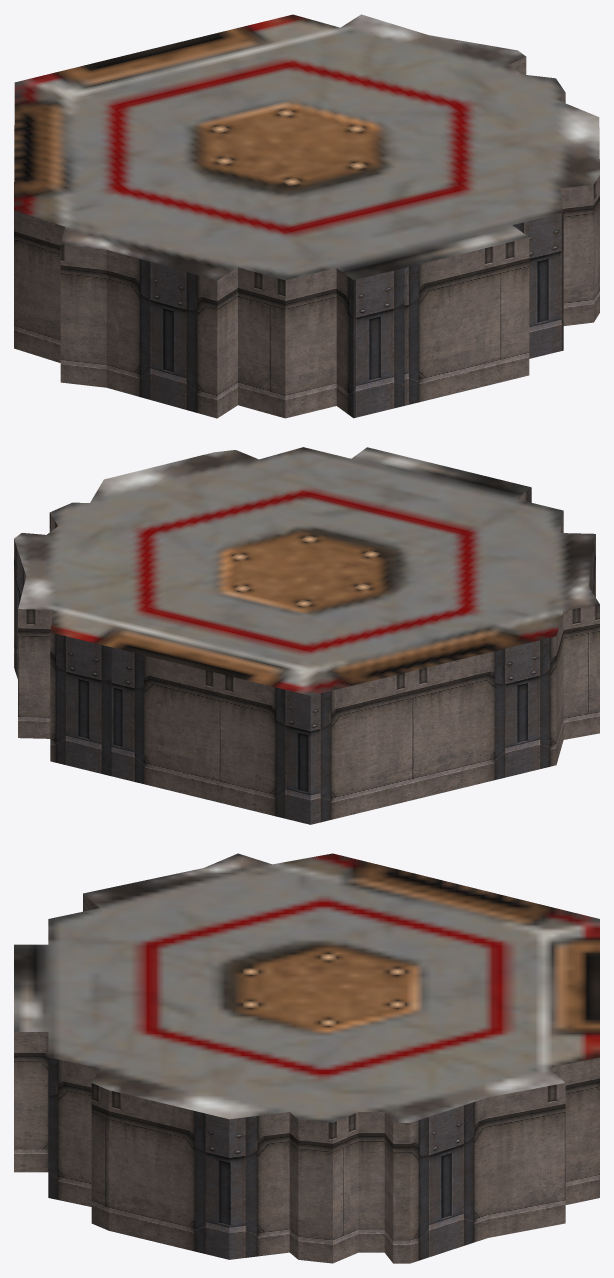
Rendered from bsealed_light_a_30.glb.
3 views of the same model, one above another, from view 1: azimuth 30°, elevation 25°; view 2: azimuth 150°, elevation 25°; view 3: azimuth 270°, elevation 25° (orthographic). The views are drawn at different scales.
Parts seen in each view (by area): view 1: buildings/saxarba/bsealed_light/bsealed_light_a_30; view 2: buildings/saxarba/bsealed_light/bsealed_light_a_30; view 3: buildings/saxarba/bsealed_light/bsealed_light_a_30.
Part boxes in pixels (x1,y1,x2,y2): buildings/saxarba/bsealed_light/bsealed_light_a_30: (14,14,599,418); buildings/saxarba/bsealed_light/bsealed_light_a_30: (14,447,599,824); buildings/saxarba/bsealed_light/bsealed_light_a_30: (14,853,599,1263).
Bounding box in the file's own units: 74 × 18 × 68.
